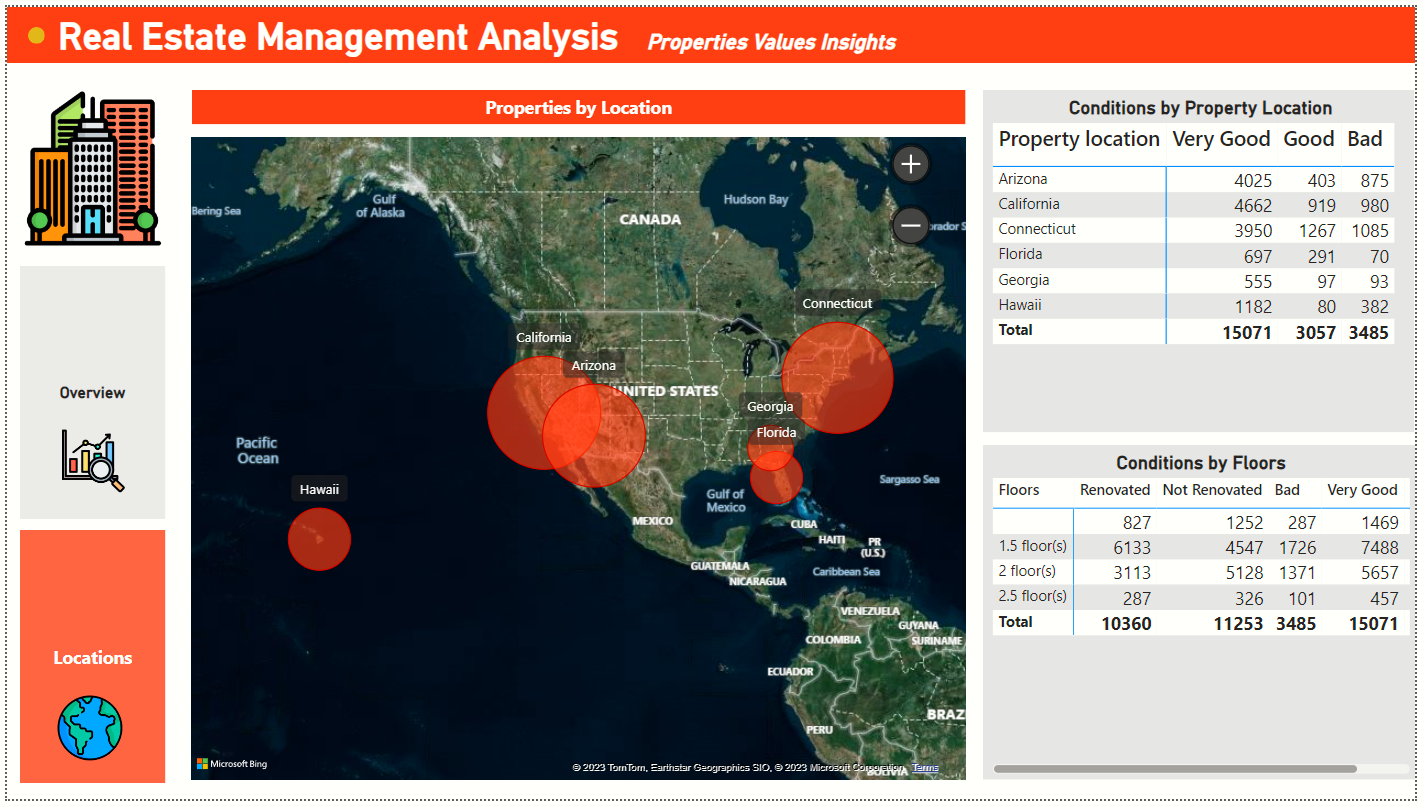

This screenshot's page, from the dashboard's own definition file:
{"tool":"powerbi","page":{"name":"Locations","canvas":[1280,720],"ordinal":1},"visuals":[{"type":"map","title":"Properties by Location","fields":{"Category":["Fact Table.Property location"],"Size":["Measures Table.Total Properties"]},"box":[162.7,113.6,713.6,593.6],"z":0},{"type":"textbox","box":[168.2,75.5,702.7,30.9],"z":1000},{"type":"pivotTable","title":"Conditions by Property Location","fields":{"Values":["Measures Table.Very Good","Measures Table.Good","Measures Table.Bad"],"Rows":["Fact Table.Property location"]},"box":[887.3,75.5,391.8,310.9],"z":2000},{"type":"pivotTable","title":"Conditions by Floors","fields":{"Rows":["Dim_Floors.Floors"],"Values":["Measures Table.Renovated","Measures Table.Not Renovated","Measures Table.Bad","Measures Table.Very Good","Measures Table.Good"]},"box":[887.3,398.2,392.7,303.6],"z":3000},{"type":"pageNavigator","title":"Overview","box":[11.8,235.5,132.7,471.8],"z":4000},{"type":"image","box":[40.9,378.2,73.6,69.1],"z":5000},{"type":"image","box":[40.9,620.9,69.1,69.1],"z":6000},{"type":"image","box":[0,71.8,156.4,150],"z":7000},{"type":"shape","box":[0,0,1280,50.9],"z":8000},{"type":"textbox","box":[41.8,1.8,952.7,49.1],"z":9000},{"type":"shape","box":[19.1,18.2,15.5,15.5],"z":10000}]}

Visuals, with their boxes in screenshot pixels (x1, y1, x2, y2), scaled from the page's 1280x720 canvas onto the 1423x809 screenshot:
"Properties by Location" map: BBox(181, 128, 974, 795)
textbox: BBox(187, 85, 968, 120)
"Conditions by Property Location" pivotTable: BBox(986, 85, 1422, 434)
"Conditions by Floors" pivotTable: BBox(986, 447, 1422, 789)
"Overview" pageNavigator: BBox(13, 265, 161, 795)
image: BBox(45, 425, 127, 503)
image: BBox(45, 698, 122, 775)
image: BBox(0, 81, 174, 249)
shape: BBox(0, 0, 1422, 57)
textbox: BBox(46, 2, 1106, 57)
shape: BBox(21, 20, 38, 38)
